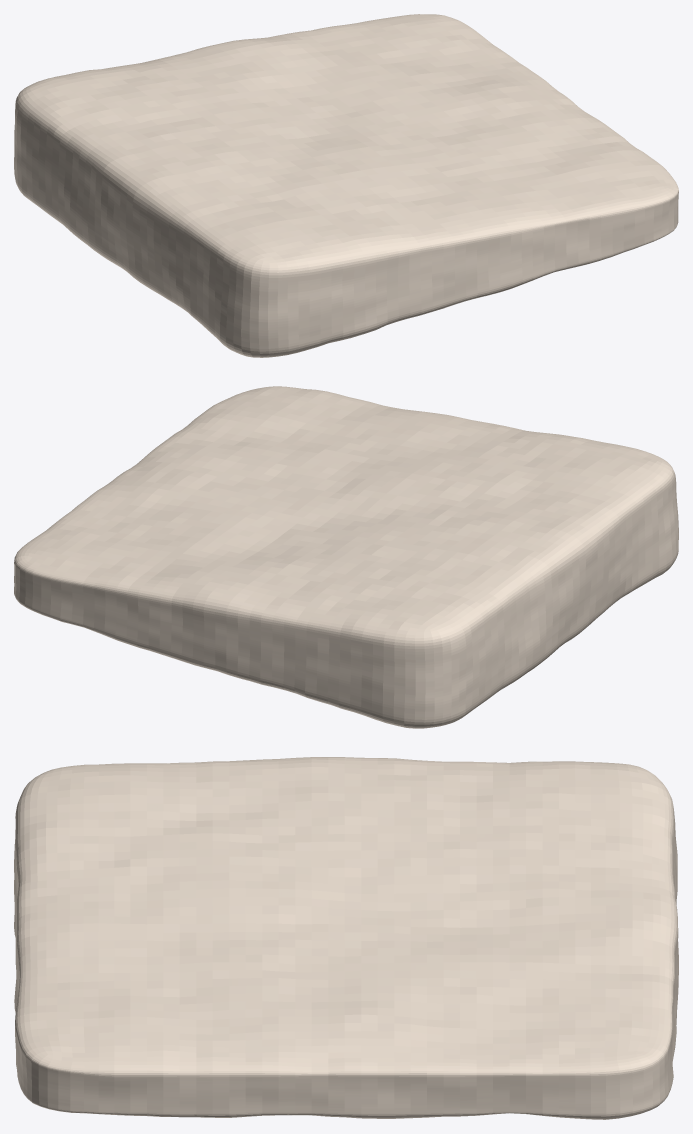
3 renders of one model, top to bottom at view 1: azimuth 30°, elevation 25°; view 2: azimuth 150°, elevation 25°; view 3: azimuth 270°, elevation 25°, orthographic. The views are drawn at different scales.
Size of the model in its own units: 1.21 by 0.2732 by 1.21.
